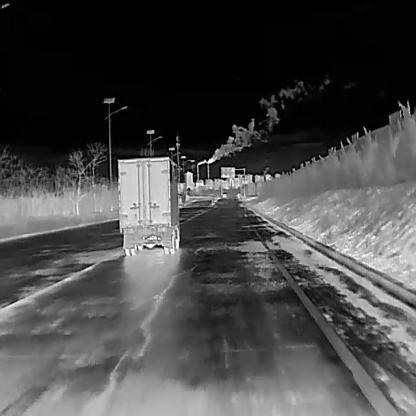car: (220, 190, 227, 197)
truck: (117, 156, 185, 255)
